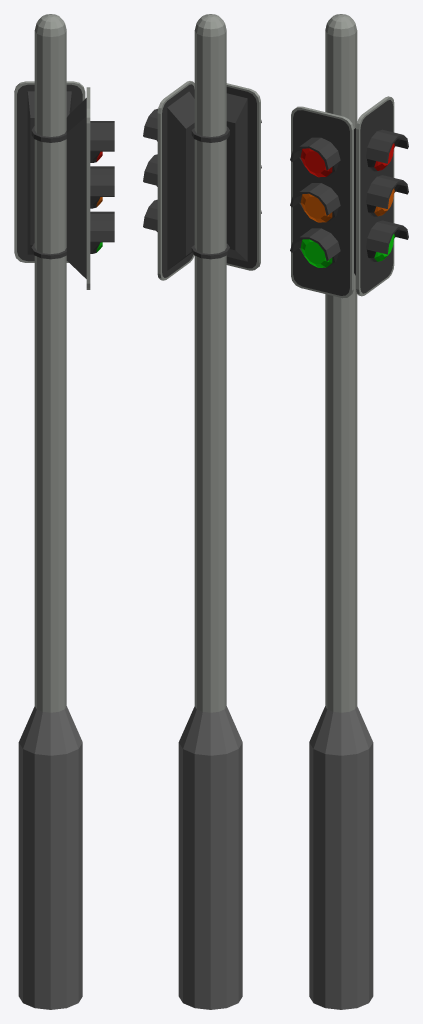
Rendered from Traffic Light 2Way.fbx.
3 views of the same model, side by side, from view 1: azimuth 90°, elevation 25°; view 2: azimuth 150°, elevation 25°; view 3: azimuth 330°, elevation 25° (orthographic).
Visible parts, largest first — view 1: Traffic Light 2Way; view 2: Traffic Light 2Way; view 3: Traffic Light 2Way.
Part boxes in pixels (left/top/right/bottom): Traffic Light 2Way: left=14, top=14, right=114, bottom=1009; Traffic Light 2Way: left=143, top=14, right=261, bottom=1009; Traffic Light 2Way: left=290, top=14, right=408, bottom=1009.
Bounding box in the file's own units: 50 × 540 × 50.
